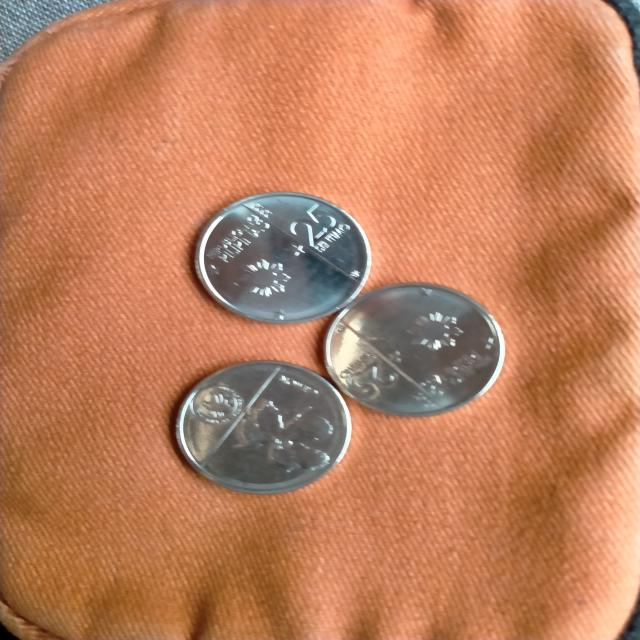25Cent_New_Front: (271, 198, 351, 258)
